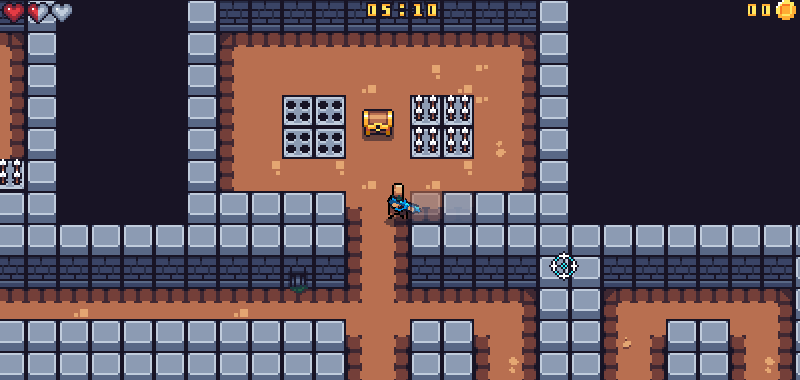trap_off: (282, 96, 345, 159)
trap_on: (410, 95, 473, 157)
treasury_close: (358, 107, 395, 141)
